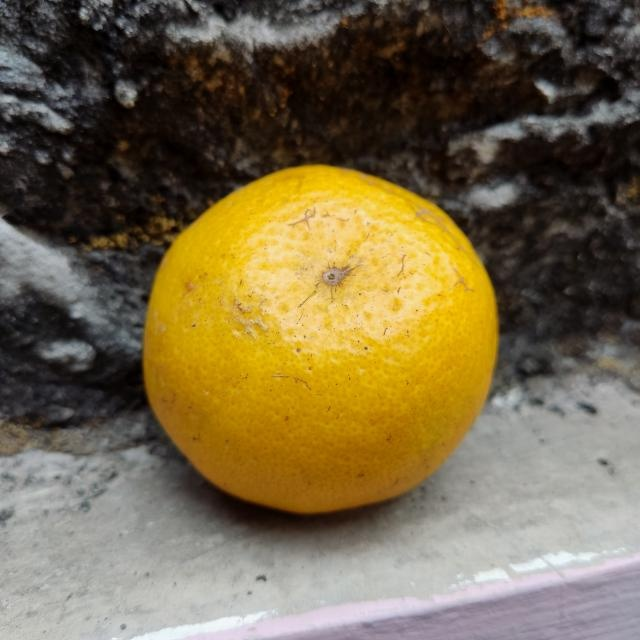agrume: (140, 160, 502, 516)
